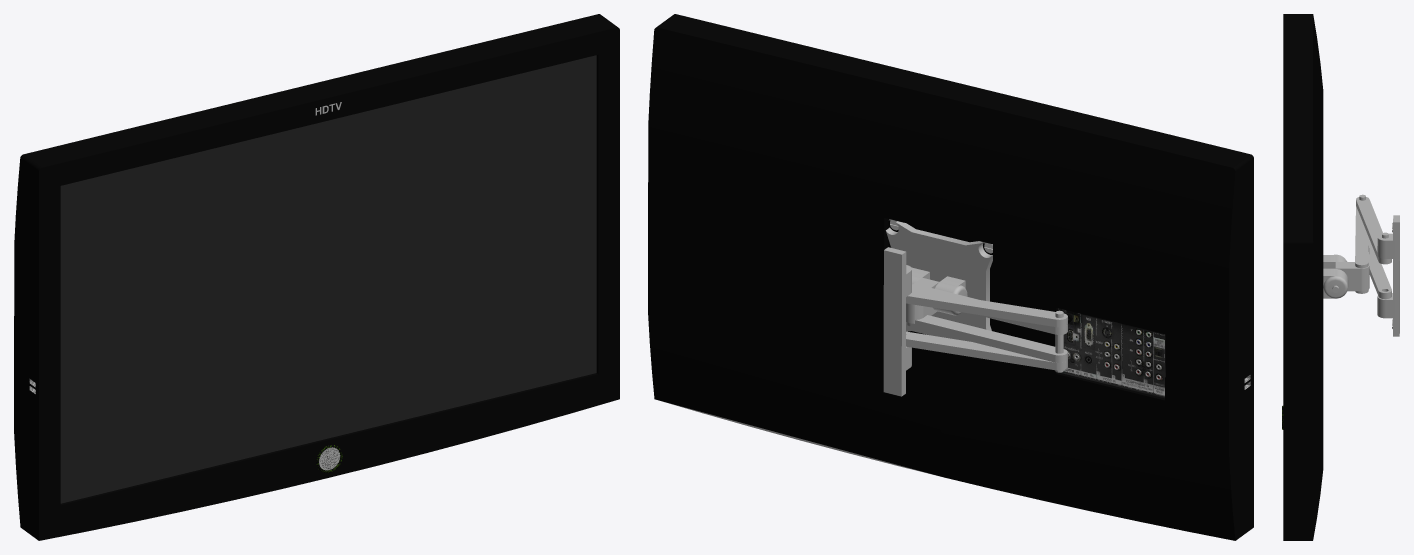
3 views of the same model, side by side, from view 1: azimuth 30°, elevation 25°; view 2: azimuth 150°, elevation 25°; view 3: azimuth 270°, elevation 25° (orthographic). The views are drawn at different scales.
Parts seen in each view (by area): view 1: group_5 (×4); view 2: group_5 (×2), image_1, group_1, group_33, group_38, group_28, group_34, group_29, group_37; view 3: group_5 (×2), group_33, group_31, group_34, group_37, group_28 (×2), group_29, Group_23, group_30, Group_2.
Part boxes in pixels (x1=…): group_5 (×4): x1=14, y1=14, x2=619, y2=540; group_5 (×2): x1=648, y1=14, x2=1253, y2=540; image_1: x1=1058, y1=308, x2=1165, y2=398; group_1: x1=886, y1=219, x2=992, y2=341; group_33: x1=906, y1=289, x2=1067, y2=327; group_38: x1=906, y1=315, x2=1067, y2=362; group_28: x1=883, y1=296, x2=905, y2=396; group_34: x1=906, y1=331, x2=1067, y2=370; group_29: x1=883, y1=265, x2=911, y2=300; group_37: x1=912, y1=284, x2=1067, y2=334; group_5 (×2): x1=1283, y1=14, x2=1323, y2=540; group_33: x1=1356, y1=197, x2=1391, y2=264; group_31: x1=1335, y1=262, x2=1369, y2=291; group_34: x1=1369, y1=239, x2=1391, y2=299; group_37: x1=1355, y1=206, x2=1368, y2=268; group_28 (×2): x1=1393, y1=215, x2=1399, y2=336; group_29: x1=1377, y1=233, x2=1399, y2=258; Group_23: x1=1323, y1=269, x2=1348, y2=298; group_30: x1=1377, y1=293, x2=1399, y2=318; Group_2: x1=1323, y1=268, x2=1348, y2=298.
Size of the model in its own units: 31.5 by 6.88 by 19.69.
